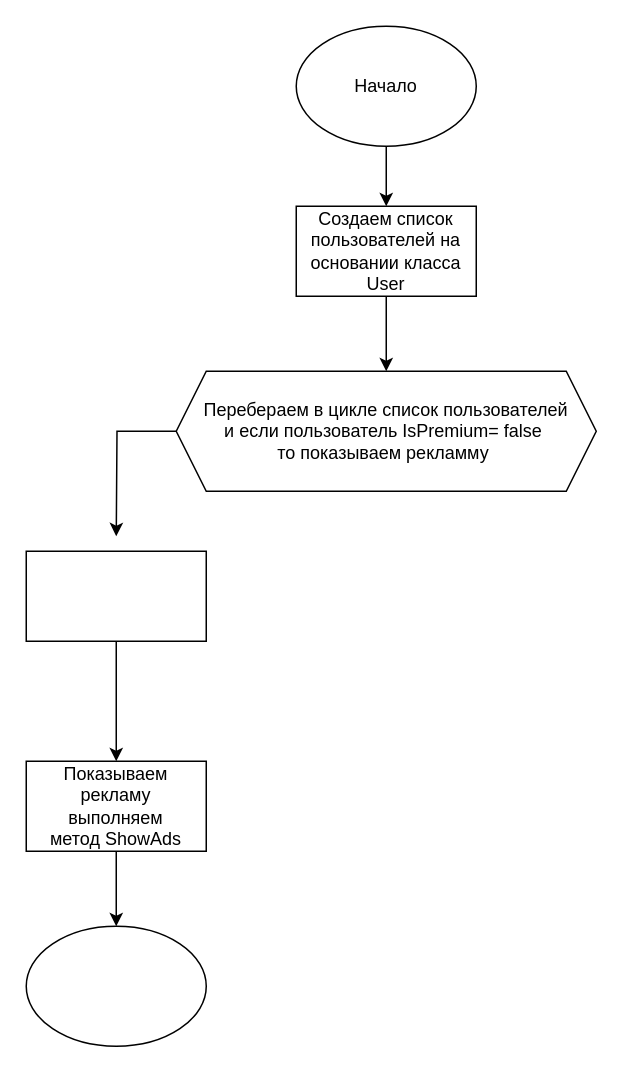
Some shapes in this 623 by 1073 pixel diagram are drawn without their labels. Here are the shapes that lost their labels. From the top down, the centre of each, then its label:
At point 115,595: "Выводим в консоли Мы подобрали для Вас, {user.Name}, рекламу:".
At point 115,985: "Конец".
